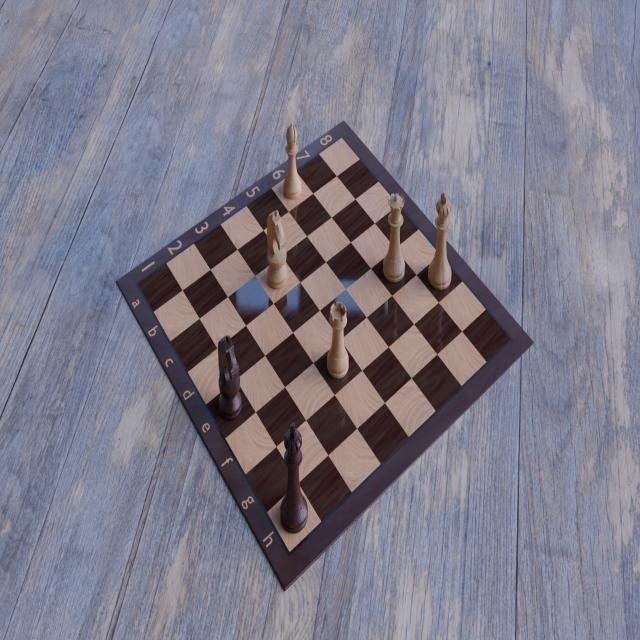black-king: (277, 418, 310, 538)
black-knight: (216, 332, 245, 422)
white-bishop: (280, 120, 303, 203)
white-king: (426, 188, 456, 294)
white-knight: (266, 211, 290, 293)
white-queen: (380, 190, 408, 285)
white-rook: (324, 299, 352, 384)
